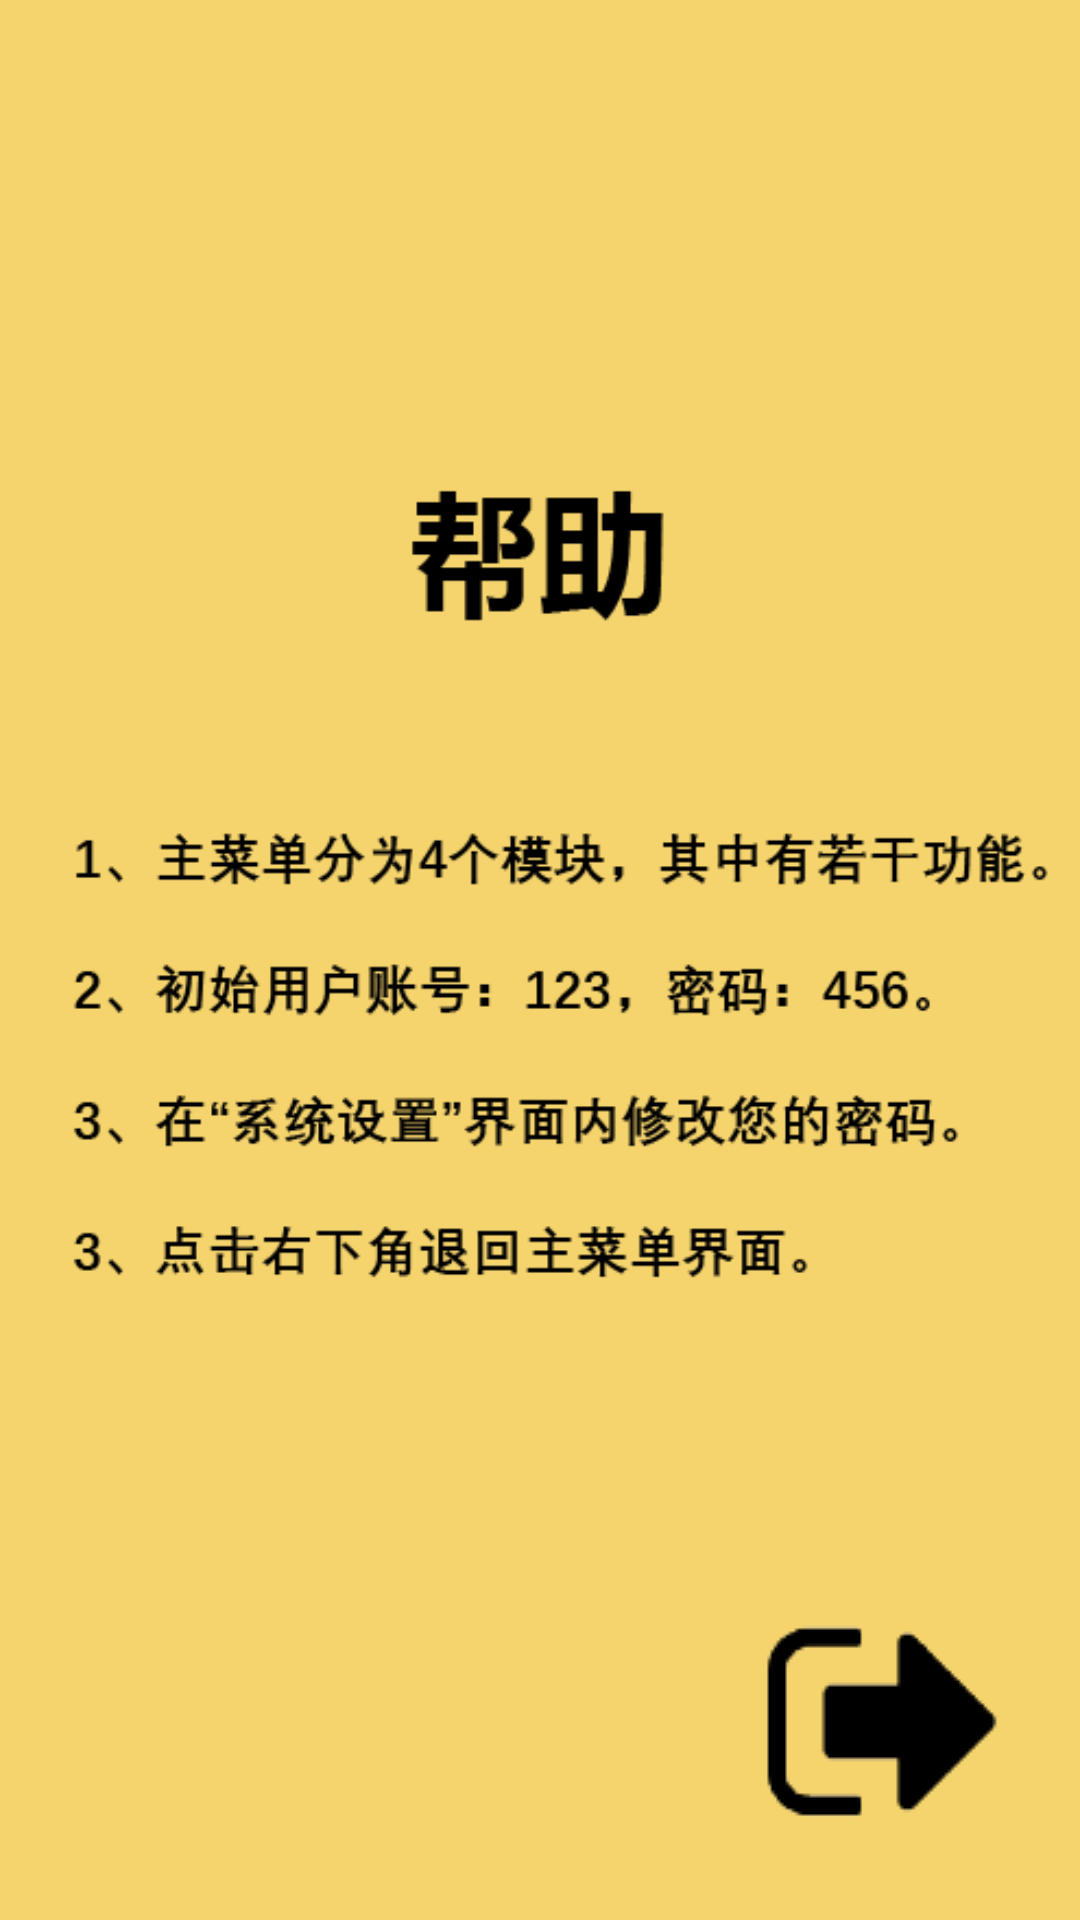

Icon bounding boxes for this 1080x1920 phone screenshot, format (x1, y1, x2, y2):
quit: (767, 1627, 997, 1816)
